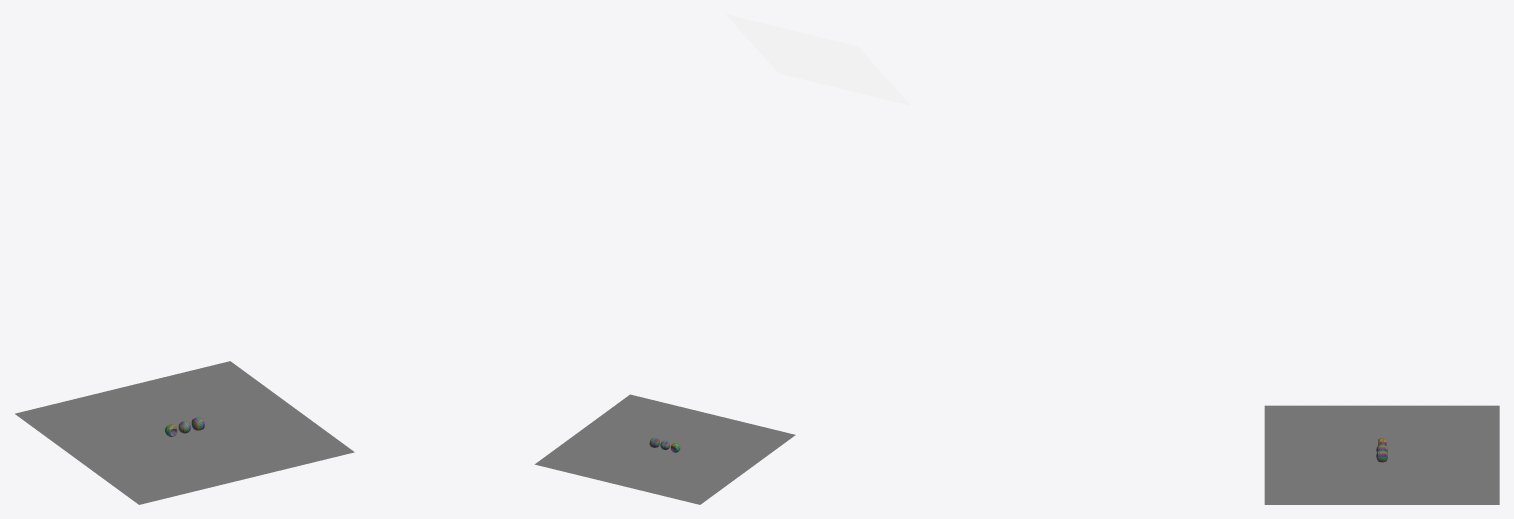
The model's file is simple_al.gltf.
3 views of the same model, side by side, from view 1: azimuth 30°, elevation 25°; view 2: azimuth 150°, elevation 25°; view 3: azimuth 270°, elevation 25° (orthographic). The views are drawn at different scales.
Parts seen in each view (by area): view 1: floor_matte_grid; view 2: floor_matte_grid, alightf_light_areaf; view 3: floor_matte_grid.
Part boxes in pixels (x1,y1,x2,y2): floor_matte_grid: (15,361,354,504); floor_matte_grid: (534,394,795,504); alightf_light_areaf: (725,14,910,105); floor_matte_grid: (1264,405,1499,504).
Size of the model in its own units: 40 by 75.4 by 95.22.
Materials: 4 (2 with a texture image).
